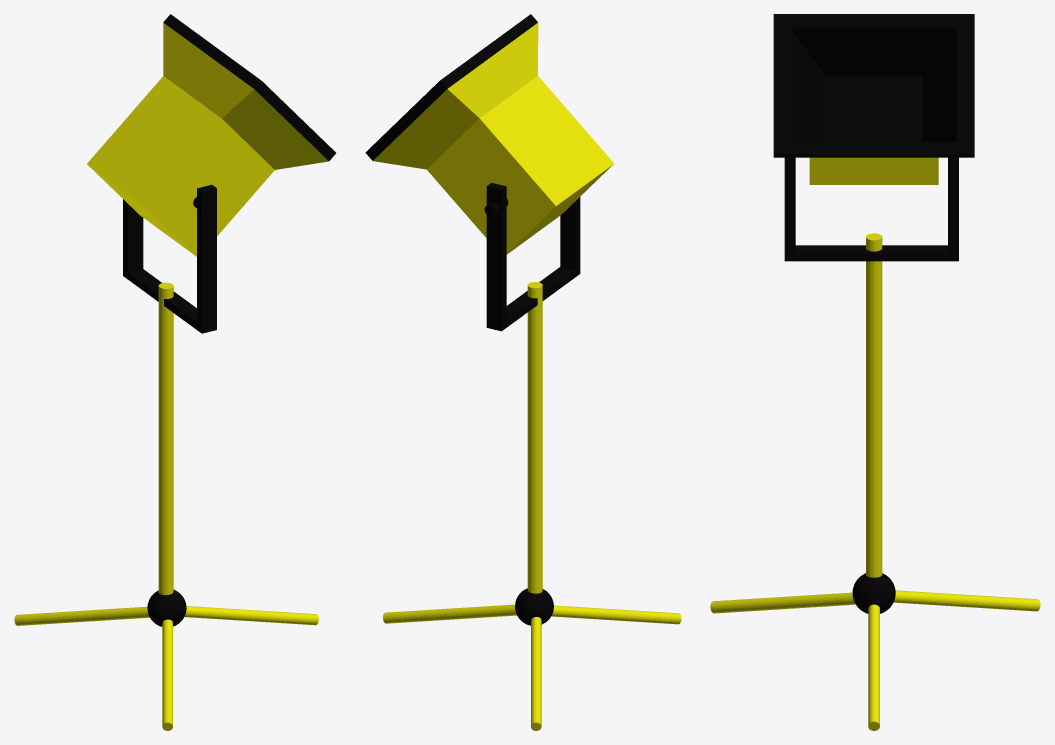
The model's file is Spot.fbx.
3 renders of one model, left to right at view 1: azimuth 30°, elevation 25°; view 2: azimuth 150°, elevation 25°; view 3: azimuth 270°, elevation 25°, orthographic. The views are drawn at different scales.
Visible parts, largest first — view 1: Cylinder.002; view 2: Cylinder.002; view 3: Cylinder.002.
Part boxes in pixels (x1=…): Cylinder.002: x1=14, y1=14, x2=335, y2=730; Cylinder.002: x1=365, y1=14, x2=681, y2=730; Cylinder.002: x1=710, y1=14, x2=1040, y2=730.
Bounding box in the file's own units: 454 × 1134 × 511.
